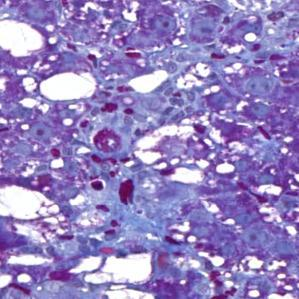ballooning: (133, 120, 212, 185)
